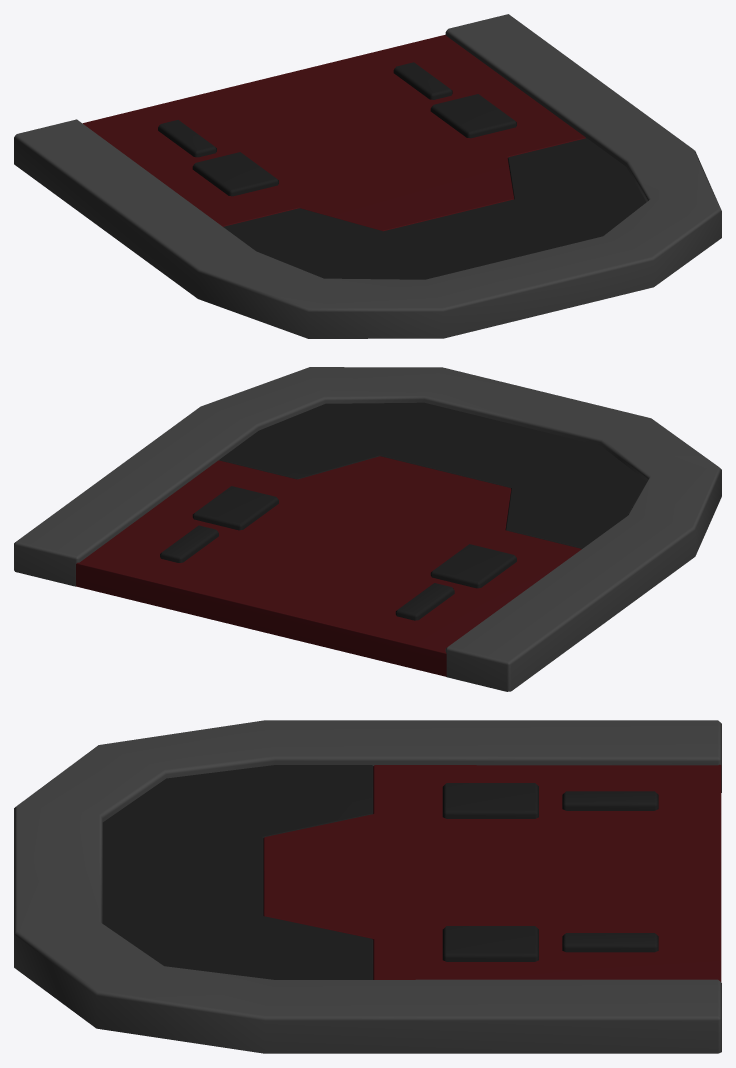
Rendered from colony_Tile_track2.glb.
3 renders of one model, top to bottom at view 1: azimuth 30°, elevation 25°; view 2: azimuth 150°, elevation 25°; view 3: azimuth 270°, elevation 25°, orthographic. The views are drawn at different scales.
Parts seen in each view (by area): view 1: Tile_track2; view 2: Tile_track2; view 3: Tile_track2.
Part boxes in pixels (<box>): Tile_track2: <box>14,14,721,338</box>; Tile_track2: <box>14,367,721,691</box>; Tile_track2: <box>14,720,721,1053</box>.
Bounding box in the file's own units: 180 × 10.24 × 180.
Materials: 1 (1 with a texture image).
